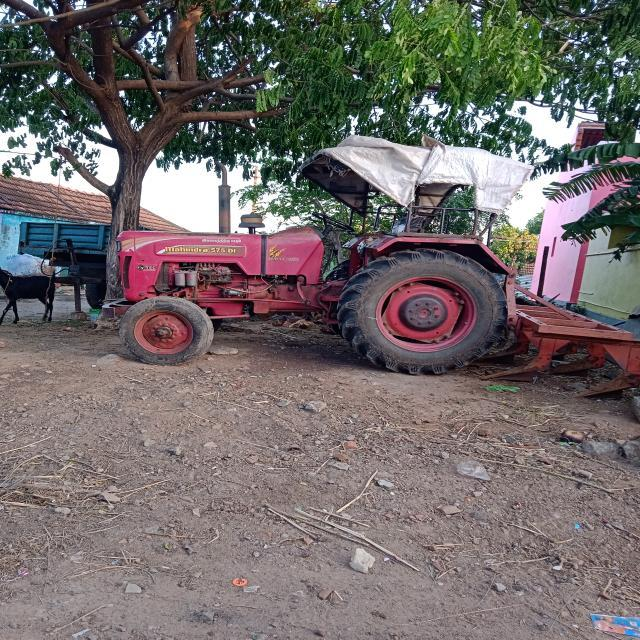Tratores - v5 YOLO V8L 2024-11-13: (104, 140, 563, 387)
